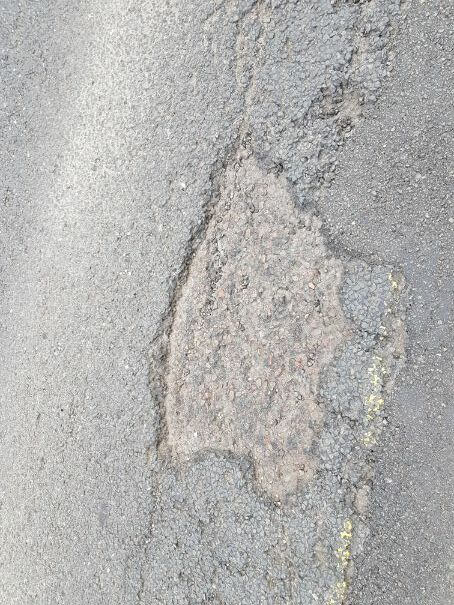pothole: (142, 127, 401, 515)
